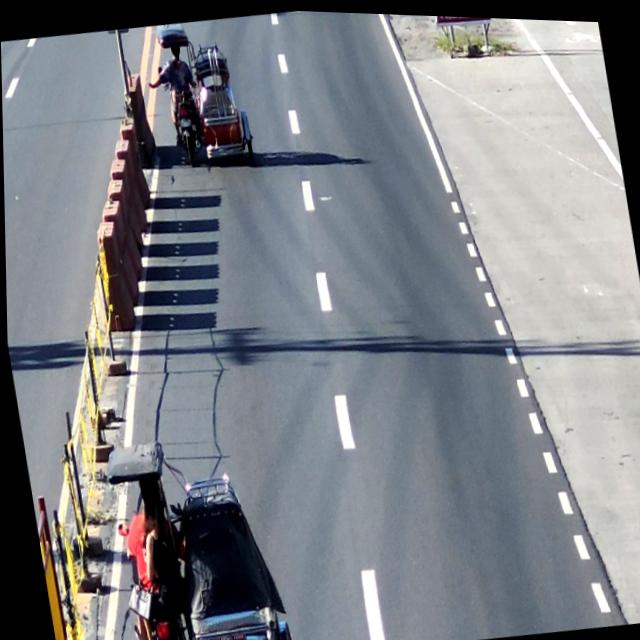Tricycle: (89, 418, 300, 640), (154, 14, 254, 173)
